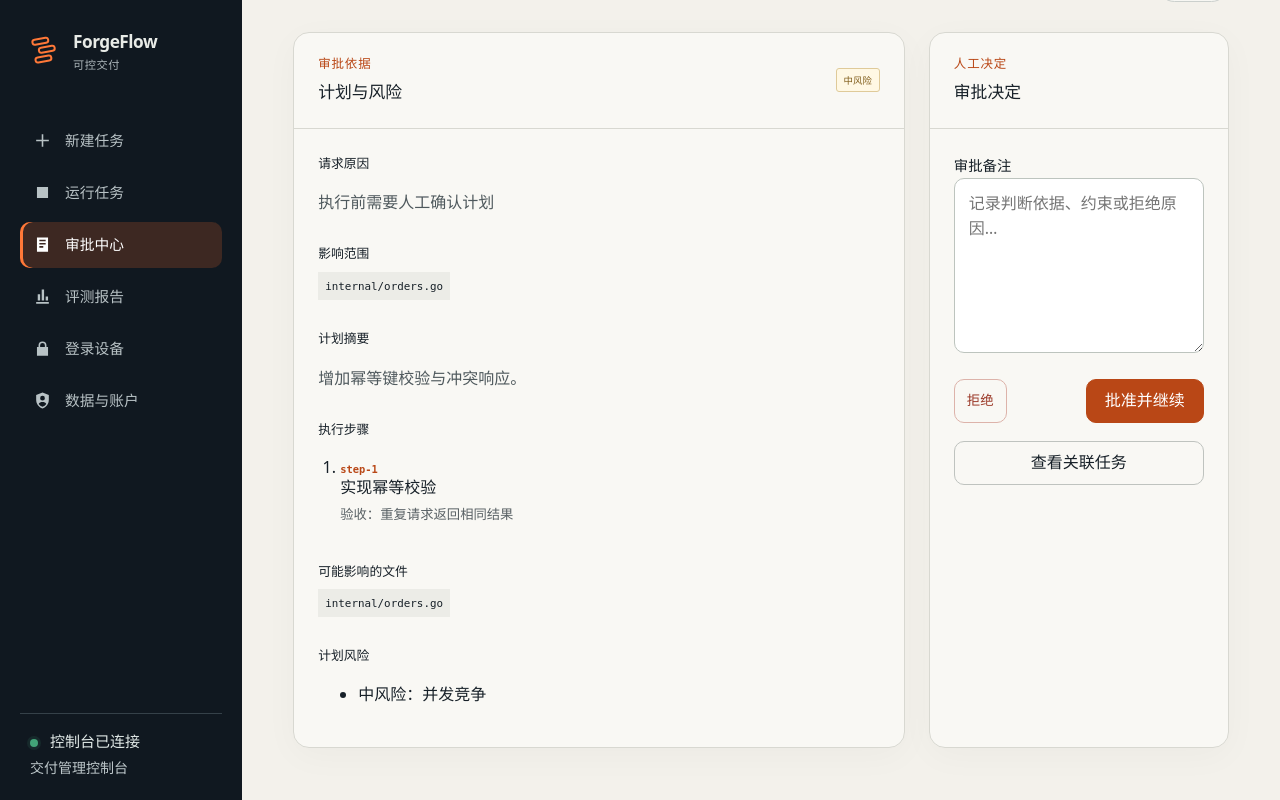
Test case: governed workflow pages › reloads approval evidence after an ETag conflict
The image size is (1280, 800).
(page scrolled)
Check: the text "增加幂等键校验与冲突响应。" is shown, box [318,367,526,389]
Click the button "批准并继续": (1145, 401) [1086,379,1204,423]
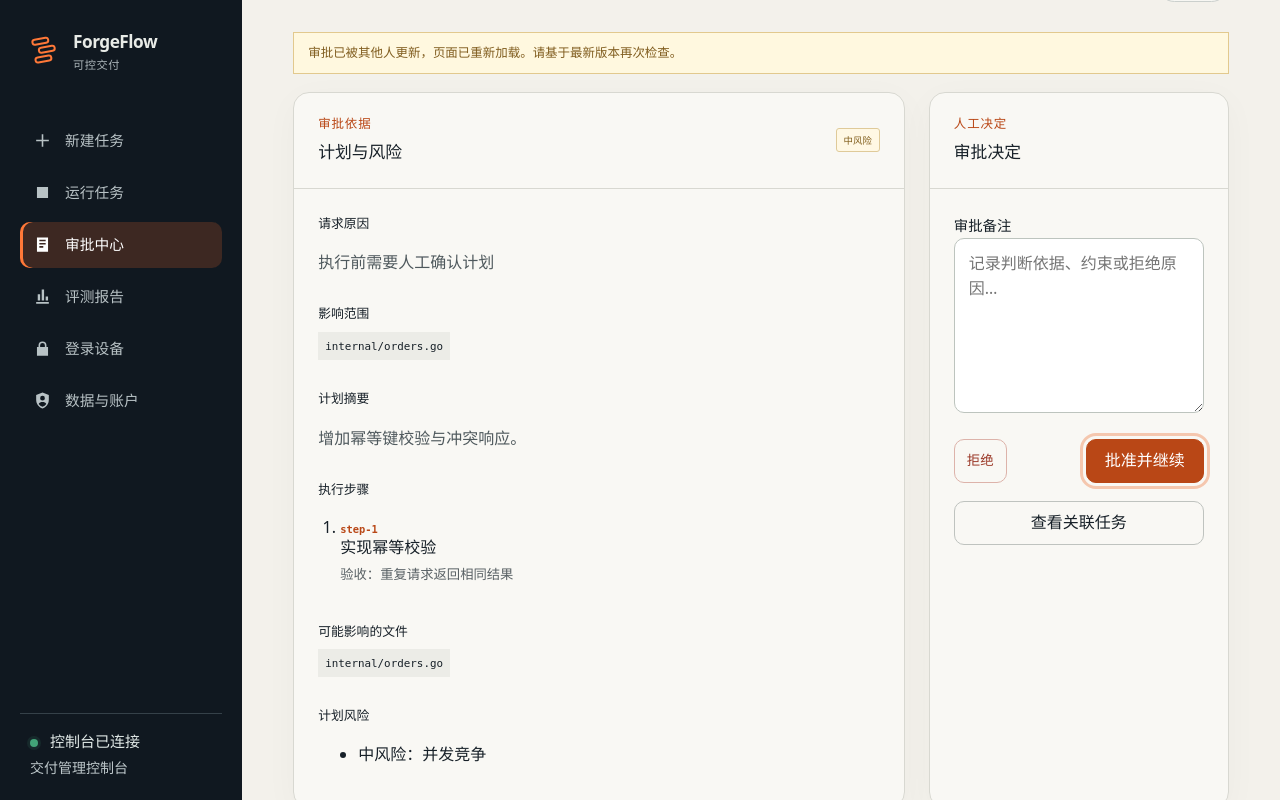
Check: the message shows "审批已被其他人更新", box [308,44,682,61]
